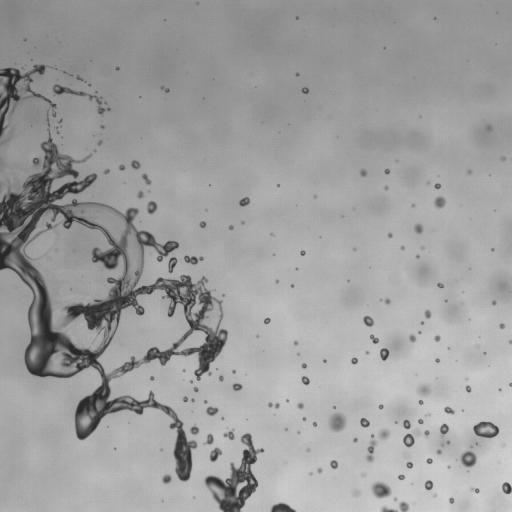droplet: (204, 433, 263, 511), (0, 64, 56, 144), (473, 421, 499, 437), (328, 412, 346, 431), (371, 482, 391, 498), (403, 429, 420, 446), (460, 451, 476, 467), (417, 383, 430, 396), (209, 447, 221, 461), (146, 201, 157, 214), (434, 196, 445, 208), (223, 429, 234, 439), (378, 429, 389, 439), (380, 348, 389, 360), (206, 406, 218, 415), (440, 423, 448, 436), (363, 316, 373, 326), (239, 197, 250, 206), (502, 482, 511, 493), (204, 434, 213, 444), (131, 160, 140, 169), (414, 224, 423, 233), (360, 418, 369, 427), (190, 425, 199, 434), (162, 474, 171, 483), (444, 406, 454, 414), (370, 334, 378, 343), (301, 376, 309, 385), (330, 460, 338, 469), (232, 383, 242, 390), (425, 480, 432, 490), (403, 420, 410, 429), (424, 310, 431, 318), (470, 487, 479, 493), (351, 357, 358, 364), (409, 334, 415, 342), (301, 87, 308, 93), (360, 169, 366, 176), (137, 191, 143, 198), (383, 298, 390, 304), (465, 385, 471, 392), (352, 490, 359, 496), (486, 125, 492, 131), (200, 221, 206, 227), (264, 318, 270, 324), (434, 335, 440, 341), (423, 430, 429, 436), (406, 462, 412, 468), (162, 87, 169, 92), (119, 164, 124, 170), (434, 183, 440, 188), (301, 363, 306, 369), (297, 403, 303, 408), (426, 458, 432, 463), (398, 474, 404, 479), (449, 497, 454, 503), (300, 250, 305, 255), (499, 323, 504, 328), (317, 468, 322, 473), (76, 76, 82, 80), (437, 283, 443, 287), (219, 375, 223, 381), (98, 140, 102, 145), (104, 169, 109, 173), (385, 169, 389, 174), (229, 225, 233, 230), (293, 341, 298, 345), (183, 396, 187, 401), (418, 419, 423, 423), (437, 449, 441, 454), (501, 156, 505, 160), (388, 233, 392, 237), (435, 358, 439, 362), (150, 376, 154, 380), (194, 387, 198, 391), (419, 400, 423, 404), (379, 404, 383, 408), (312, 422, 316, 426), (353, 438, 357, 442), (384, 186, 388, 189), (400, 246, 404, 249), (492, 301, 496, 304), (509, 339, 511, 344), (116, 67, 119, 70), (58, 119, 61, 122), (30, 123, 33, 126), (101, 125, 104, 128), (468, 170, 471, 173), (323, 359, 326, 362), (303, 417, 306, 420), (393, 497, 396, 500), (46, 116, 48, 120), (509, 382, 511, 386), (412, 204, 414, 207), (422, 246, 424, 249), (416, 255, 419, 257), (275, 280, 278, 282), (291, 284, 293, 287), (366, 351, 368, 354), (191, 399, 194, 401), (433, 494, 436, 496), (296, 73, 298, 75), (46, 112, 48, 114), (46, 123, 48, 125), (72, 249, 74, 251), (183, 369, 185, 371), (233, 370, 235, 372), (447, 441, 449, 443), (307, 448, 309, 450), (362, 474, 364, 476)
ligament: (0, 129, 227, 481), (53, 84, 106, 114), (366, 434, 377, 462), (380, 501, 409, 511), (270, 502, 295, 511), (184, 255, 203, 264), (168, 257, 177, 272), (142, 173, 151, 185), (268, 402, 279, 408), (0, 157, 4, 169), (0, 182, 2, 187)
